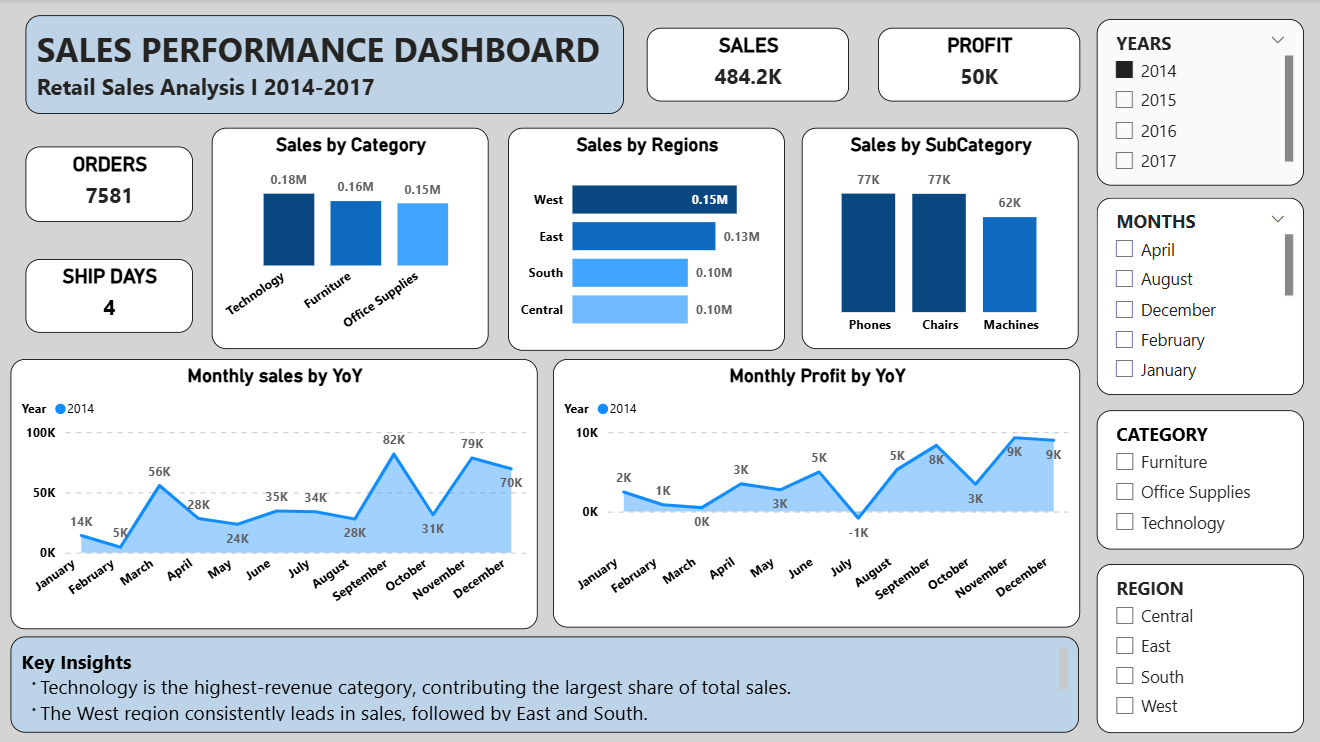

This screenshot's page, from the dashboard's own definition file:
{"tool":"powerbi","page":{"name":"Retail_Sales_Analysis_Dashboard","canvas":[1280,720],"ordinal":0},"visuals":[{"type":"clusteredColumnChart","title":"Sales by Category","fields":{"Category":["Sheet1.Category"],"Y":["Sum(Sheet1.Sales)"]},"box":[206.2,123.8,267.5,213.8],"z":0},{"type":"clusteredColumnChart","title":"Sales by SubCategory","fields":{"Category":["Sheet1.Sub-Category"],"Y":["Sum(Sheet1.Sales)"]},"box":[776.2,123.8,267.5,213.8],"z":1000},{"type":"areaChart","title":"Monthly sales by YoY","fields":{"Y":["Sum(Sheet1.Sales)"],"Category":["Sheet1.Order Date.Variation.Date Hierarchy.Month","Sheet1.Order Date.Variation.Date Hierarchy.Day"],"Series":["Sheet1.Order Date.Variation.Date Hierarchy.Year"]},"box":[12.3,347.2,509.1,260.7],"z":2000},{"type":"areaChart","title":"Monthly Profit by YoY","fields":{"Series":["Sheet1.Order Date.Variation.Date Hierarchy.Year"],"Y":["Sum(Sheet1.Profit)"],"Category":["Sheet1.Order Date.Variation.Date Hierarchy.Month"]},"box":[535.2,347.2,509.1,259.3],"z":3000},{"type":"slicer","fields":{"Values":["Sheet1.Region"]},"box":[1060.7,544.8,200.3,163.3],"z":4000},{"type":"clusteredBarChart","title":"Sales by Regions","fields":{"Category":["Sheet1.Region"],"Y":["Sum(Sheet1.Sales)"]},"box":[492.5,123.8,267.5,215],"z":5000},{"type":"card","title":"SALES","fields":{"Values":["Sum(Sheet1.Sales)"]},"box":[626.2,27.5,195,71.2],"z":6000},{"type":"card","title":"PROFIT","fields":{"Values":["Sum(Sheet1.Profit)"]},"box":[848.8,27.5,195,71.2],"z":7000},{"type":"card","title":"ORDERS","fields":{"Values":["Sum(Sheet1.Quantity)"]},"box":[26.2,142.5,161.2,72.5],"z":8000},{"type":"card","title":"SHIP DAYS","fields":{"Values":["Avg(Sheet1.AvgDelivery)"]},"box":[26.2,251.2,161.2,71.2],"z":9000},{"type":"slicer","fields":{"Values":["Sheet1.Category"]},"box":[1060.7,396.6,200.3,134.5],"z":10000},{"type":"slicer","fields":{"Values":["Sheet1.Years"]},"box":[1060.7,19.2,200.3,160.5],"z":11000},{"type":"slicer","fields":{"Values":["Sheet1.Months"]},"box":[1060.7,192.1,200.3,190.7],"z":12000},{"type":"textbox","box":[26.2,16.2,577.5,95],"z":13000},{"type":"textbox","box":[12.5,615,1031.2,92.5],"z":14000}]}

Visuals, with their boxes in screenshot pixels (x1, y1, x2, y2), scaled from the page's 1280x720 canvas onto the 1320x742 screenshot:
"Sales by Category" clusteredColumnChart: 213 128 489 348
"Sales by SubCategory" clusteredColumnChart: 800 128 1076 348
"Monthly sales by YoY" areaChart: 13 358 538 626
"Monthly Profit by YoY" areaChart: 552 358 1077 625
slicer - Sheet1.Region: 1094 561 1300 730
"Sales by Regions" clusteredBarChart: 508 128 784 349
"SALES" card: 646 28 847 102
"PROFIT" card: 875 28 1076 102
"ORDERS" card: 27 147 193 222
"SHIP DAYS" card: 27 259 193 332
slicer - Sheet1.Category: 1094 409 1300 547
slicer - Sheet1.Years: 1094 20 1300 185
slicer - Sheet1.Months: 1094 198 1300 394
textbox: 27 17 623 115
textbox: 13 634 1076 729
